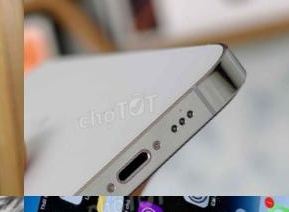physical_damage: (265, 206, 289, 212)
